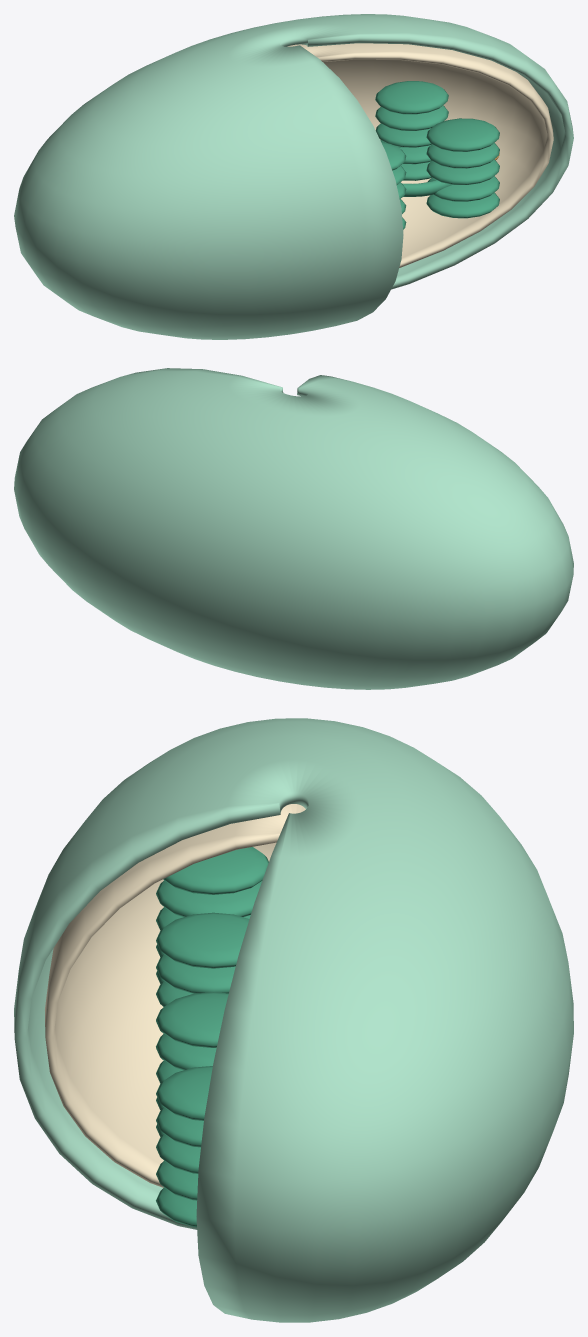
The model's file is chloroplast.glb.
3 renders of one model, top to bottom at view 1: azimuth 30°, elevation 25°; view 2: azimuth 150°, elevation 25°; view 3: azimuth 270°, elevation 25°, orthographic. The views are drawn at different scales.
Parts seen in each view (by area): view 1: outer-envelope.001, inner-envelope.001, thylakoid-grana, stroma-lamellae; view 2: outer-envelope.001; view 3: outer-envelope.001, inner-envelope.001, thylakoid-grana.
Boxes of the visible parts, x1,y1,x2,y2 form: outer-envelope.001: (14, 14, 573, 339); inner-envelope.001: (287, 43, 553, 267); thylakoid-grana: (375, 81, 499, 229); stroma-lamellae: (384, 142, 452, 196); outer-envelope.001: (14, 368, 573, 689); outer-envelope.001: (14, 718, 573, 1322); inner-envelope.001: (45, 804, 305, 1187); thylakoid-grana: (156, 847, 268, 1227).
Bounding box in the file's own units: 7.37 × 3.58 × 4.17.
